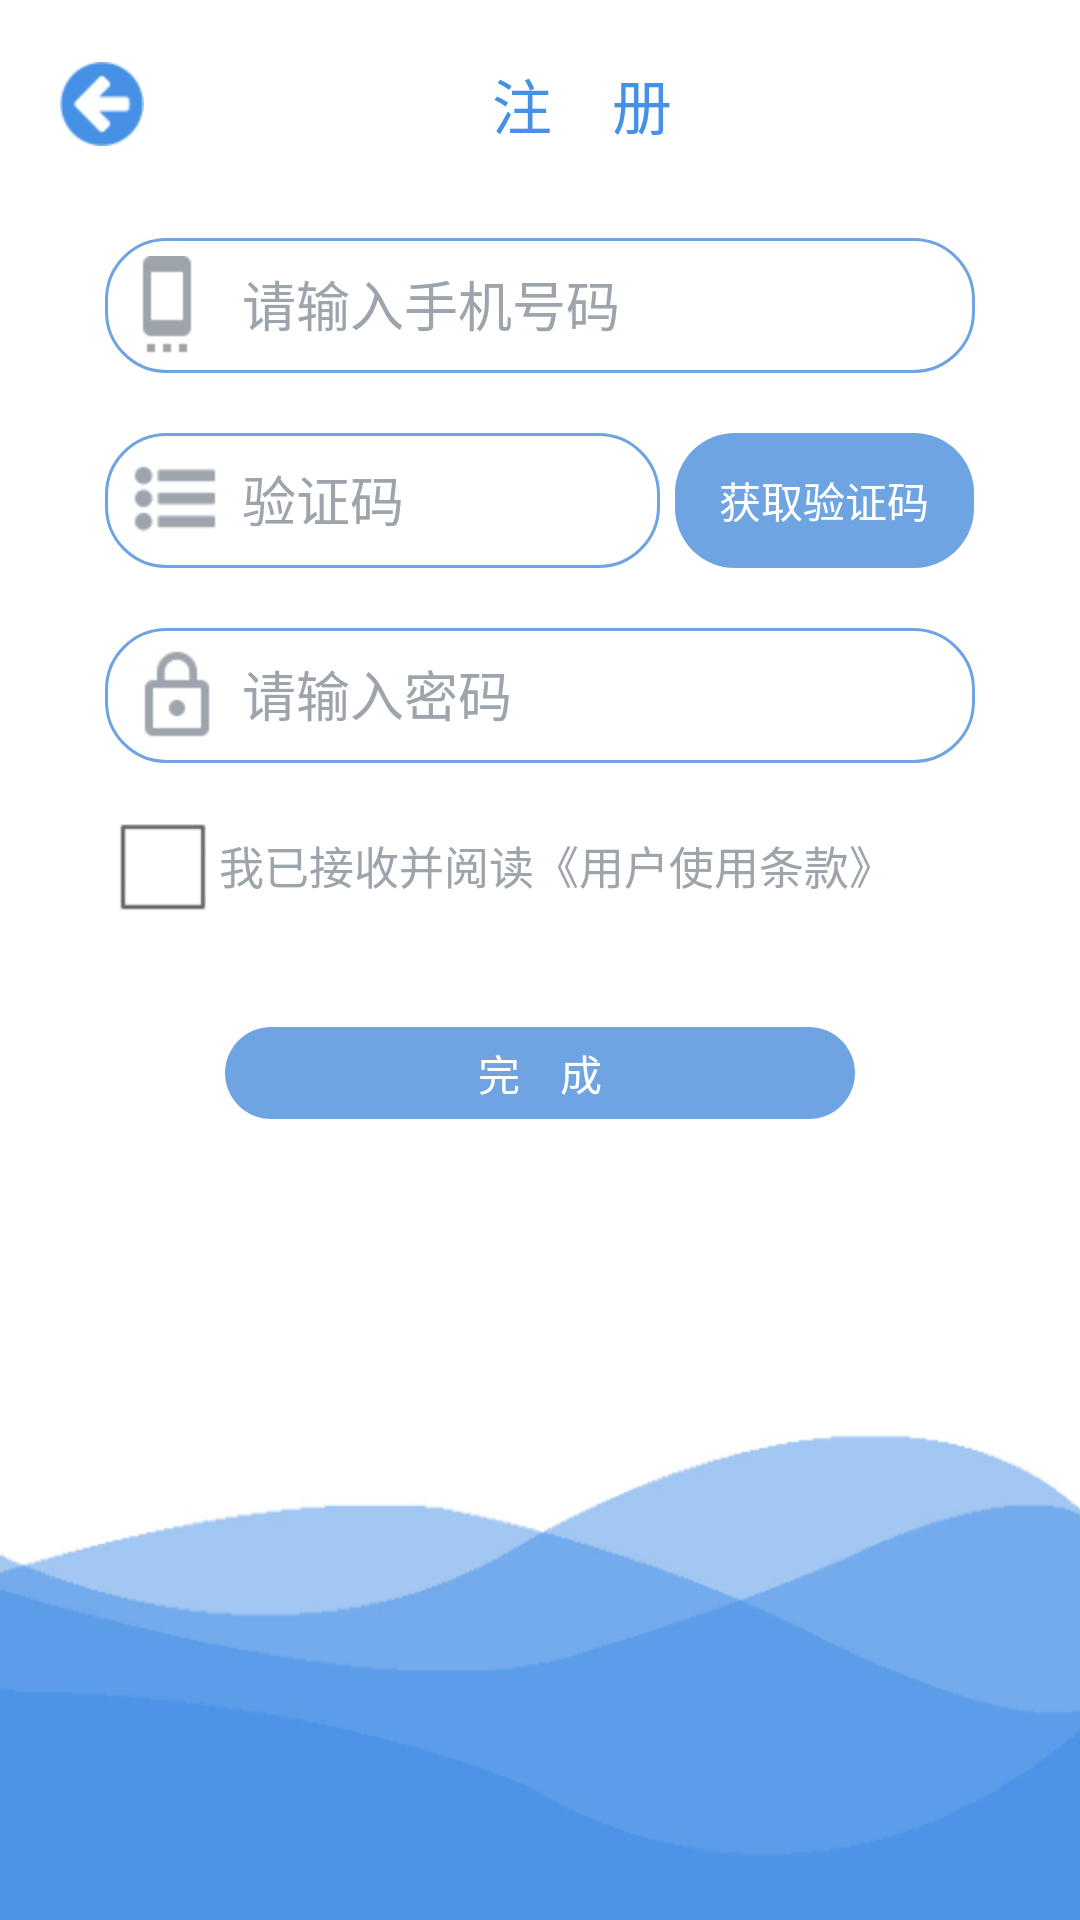

Icons on this 1080×1920 Android screen, each with its box as (x1, y1, x2, y2):
register return: (60, 62, 144, 146)
